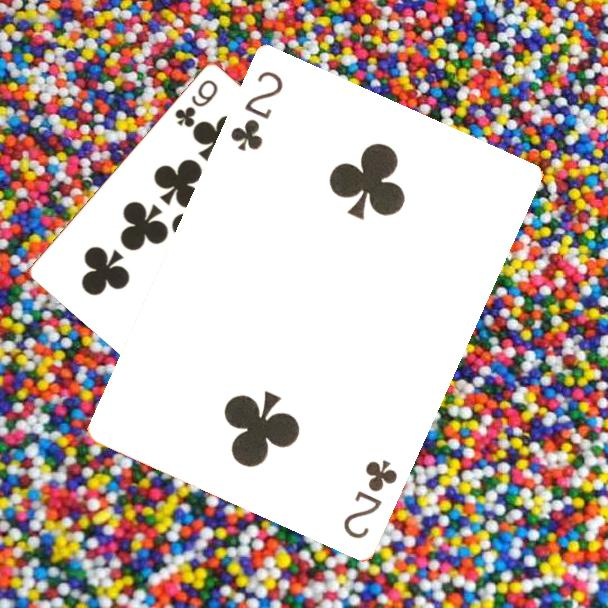c02: (340, 456, 401, 543), (227, 68, 287, 155)
c09: (171, 76, 221, 130)
